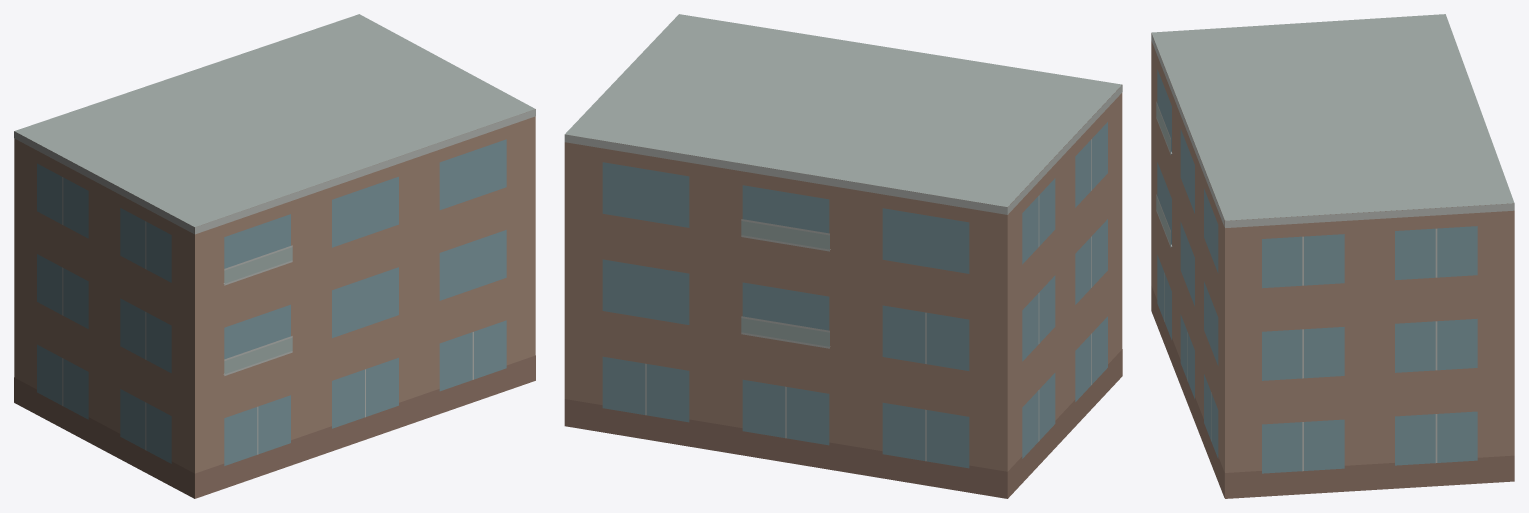
File: survey-upis-32991538.glb
3 views of the same model, side by side, from view 1: azimuth 30°, elevation 25°; view 2: azimuth 150°, elevation 25°; view 3: azimuth 270°, elevation 25° (orthographic). The views are drawn at different scales.
Parts seen in each view (by area): view 1: survey-upis-32991538.tmp; view 2: survey-upis-32991538.tmp; view 3: survey-upis-32991538.tmp.
Part boxes in pixels (x1,y1,x2,y2): survey-upis-32991538.tmp: (14, 14, 535, 498); survey-upis-32991538.tmp: (564, 14, 1122, 498); survey-upis-32991538.tmp: (1151, 14, 1514, 498).
Size of the model in its own units: 14.6 by 9.15 by 10.84.
